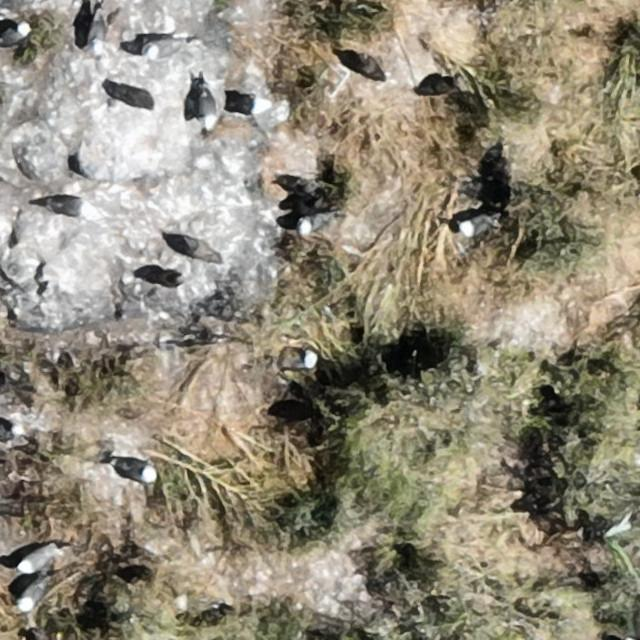umineko: (140, 34, 190, 59), (177, 594, 225, 619), (45, 197, 97, 219), (115, 87, 158, 109), (85, 8, 106, 53), (18, 546, 53, 571), (17, 580, 45, 610), (117, 460, 154, 482), (198, 89, 218, 128), (460, 217, 491, 238), (299, 215, 329, 236), (286, 352, 319, 371), (2, 22, 29, 44), (234, 98, 272, 113)
